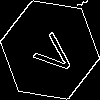V: (25, 25, 79, 80)
